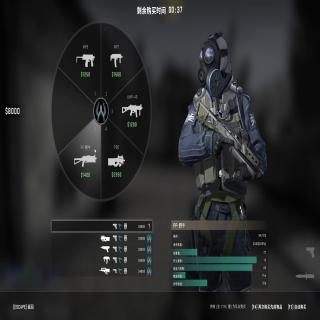CT-Head: (198, 29, 228, 90)
